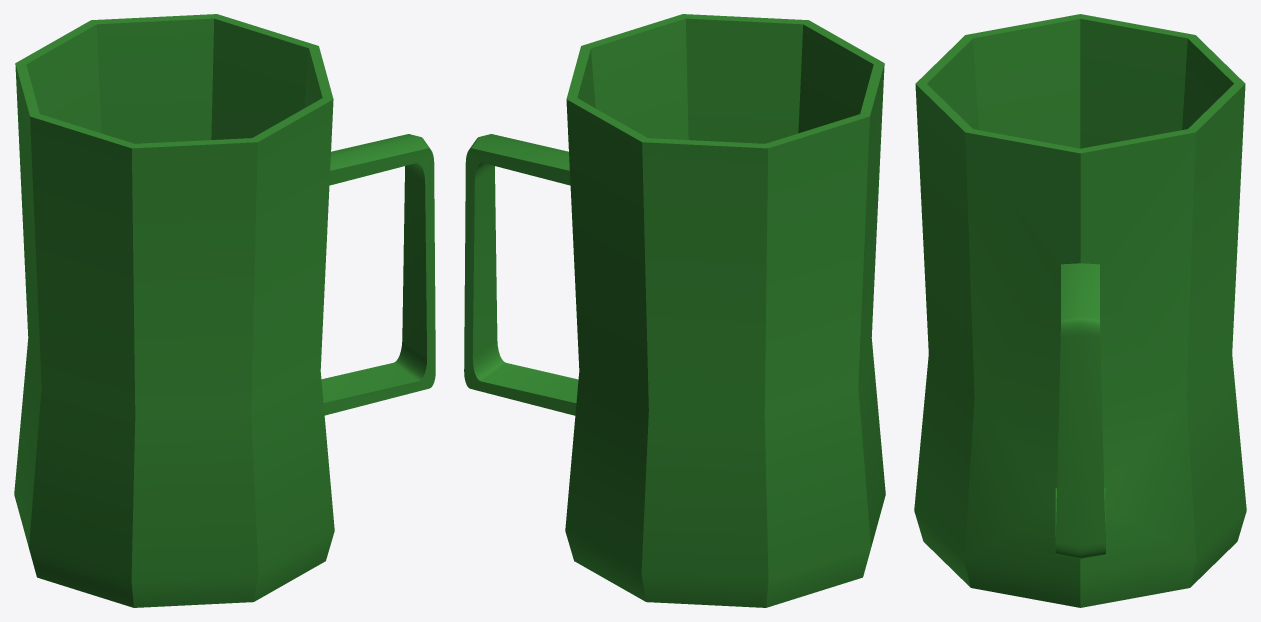
Rendered from Cawan.fbx.
The picture shows the model from 3 angles, left to right: view 1: azimuth 30°, elevation 25°; view 2: azimuth 150°, elevation 25°; view 3: azimuth 270°, elevation 25°; orthographic projection.
Visible parts, largest first — view 1: Cup; view 2: Cup; view 3: Cup.
Boxes of the visible parts, x1=… form: Cup: x1=14, y1=14, x2=435, y2=607; Cup: x1=464, y1=14, x2=885, y2=607; Cup: x1=914, y1=14, x2=1246, y2=607.
Bounding box in the file's own units: 17.87 × 19.9 × 13.1.
